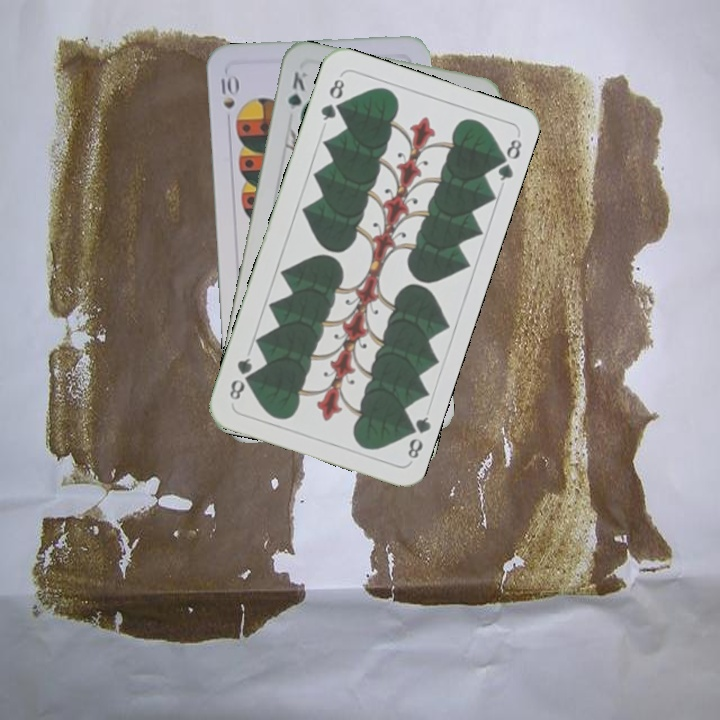G8: (400, 412, 433, 462), (316, 74, 347, 124)
GK: (283, 67, 311, 125)
S10: (217, 73, 239, 111)
